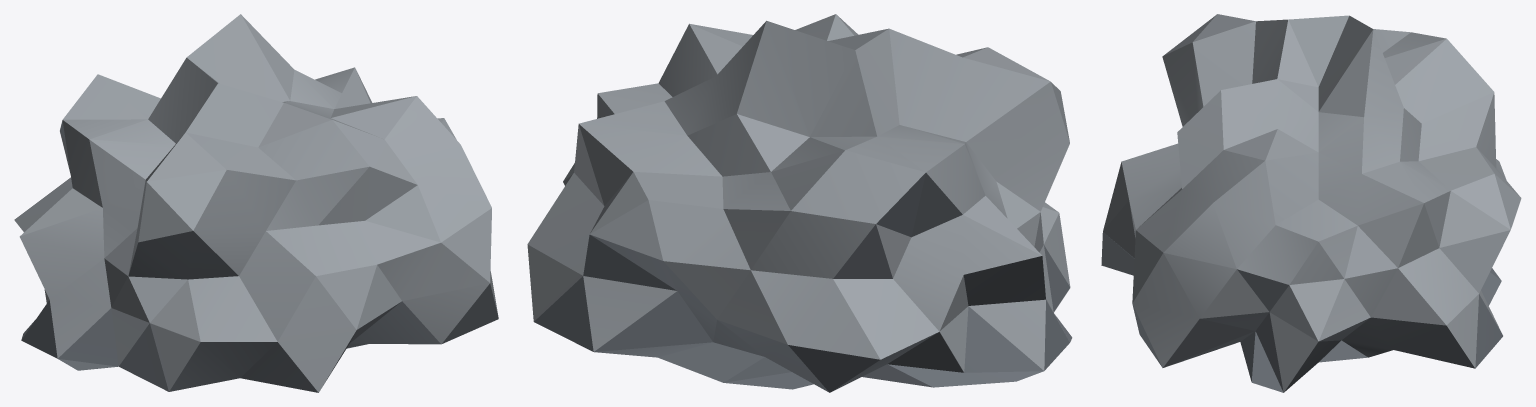
Rendered from RocaPequena.fbx.
3 views of the same model, side by side, from view 1: azimuth 30°, elevation 25°; view 2: azimuth 150°, elevation 25°; view 3: azimuth 270°, elevation 25° (orthographic). The views are drawn at different scales.
Parts seen in each view (by area): view 1: RocaPequena; view 2: RocaPequena; view 3: RocaPequena.
Boxes of the visible parts, <box> form: RocaPequena: <box>14,14,498,392</box>; RocaPequena: <box>527,14,1072,392</box>; RocaPequena: <box>1101,14,1521,392</box>.
Size of the model in its own units: 5.2 by 3.01 by 4.32.
1 material, 1 textured.
